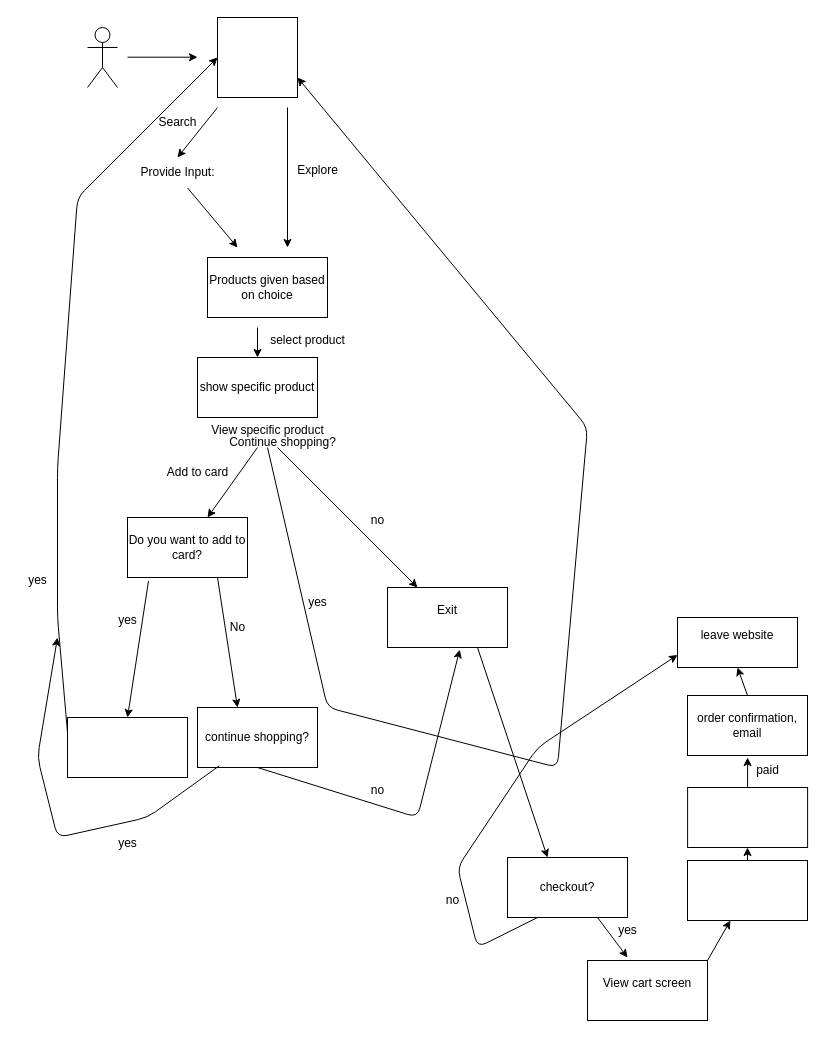
Some shapes in this 825 by 1038 pixel diagram are drawn without their labels. Each missing label, with the centre of its shape:
"added to cart, continue shopping?" belongs at pixel 127 747.
"input info" belongs at pixel 747 817.
"User" belongs at pixel 102 57.
"view payment screen" belongs at pixel 747 890.
"Website" belongs at pixel 257 57.
